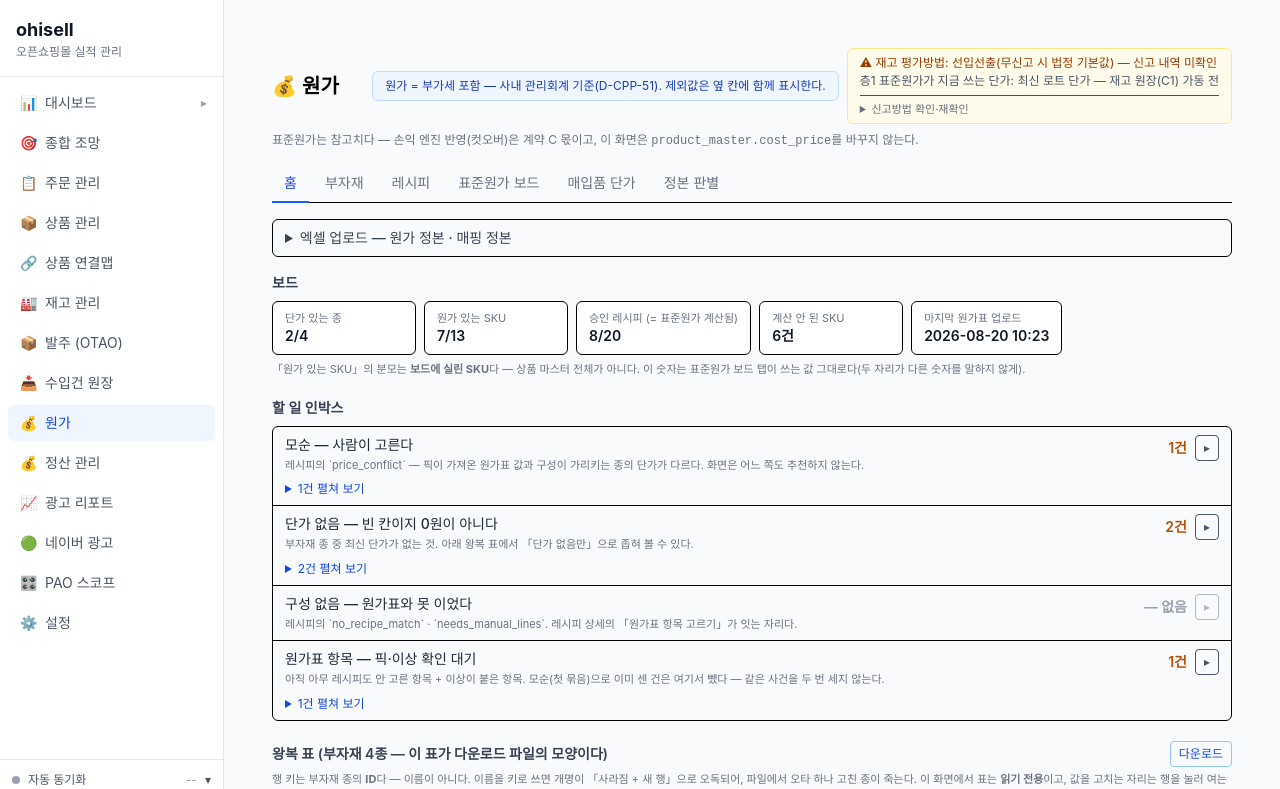
Scenario: H3: 할 일 인박스 — 0건과 «없음»이 같은 화면이 되지 않는다 › ★★중복 접기가 화면에서도 지켜진다 — 넷째 묶음(원가표 항목)은 T2 하나뿐이다
Expected: the heading "💰 원가" is shown, [272, 72, 339, 100]
Expected: the element with test id "cost-home-board-strip" is shown, [272, 274, 1062, 376]
Click the heading "1건 펼쳐 보기" below "원가표 항목 — 픽·이상 확인 대기" at coordinates (331, 703), box [298, 696, 364, 711]
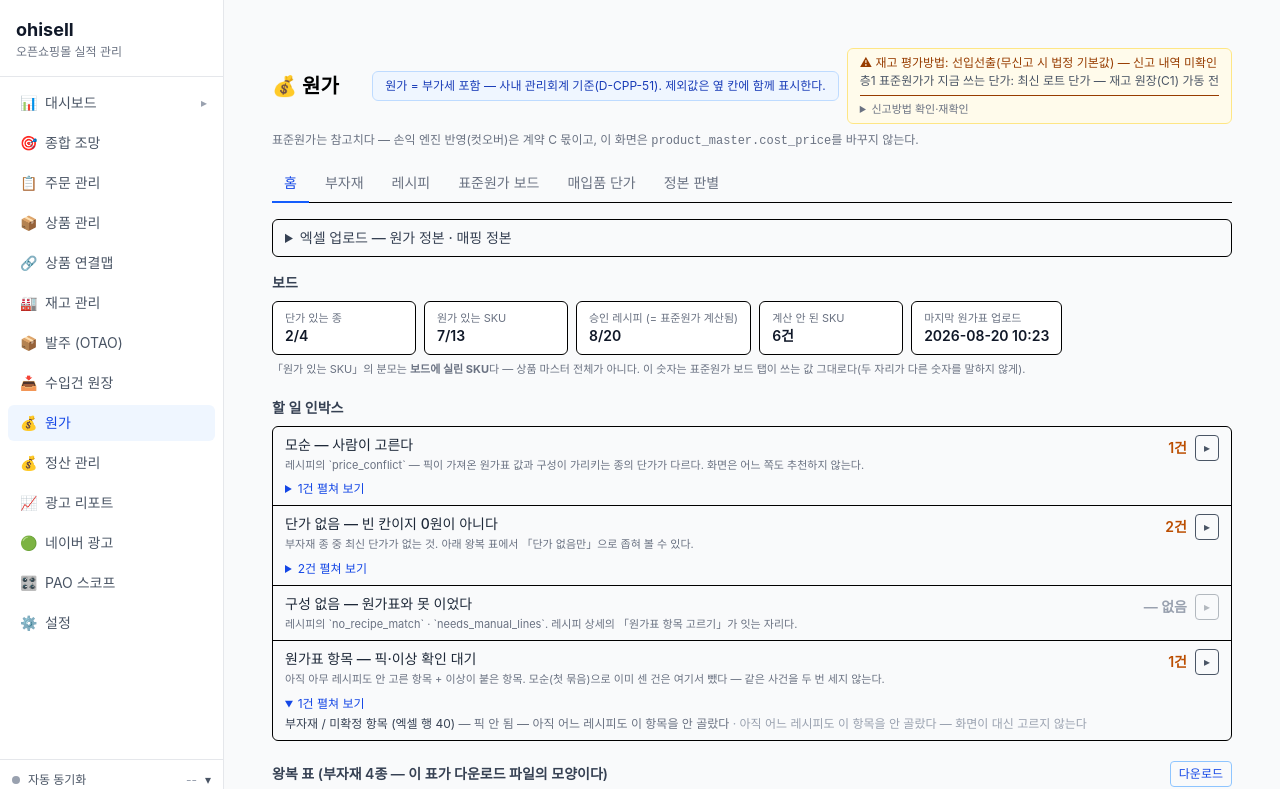
Expected: the text "부자재 / 미확정 항목 (엑셀 행 40)" is shown, [285, 716, 455, 731]
